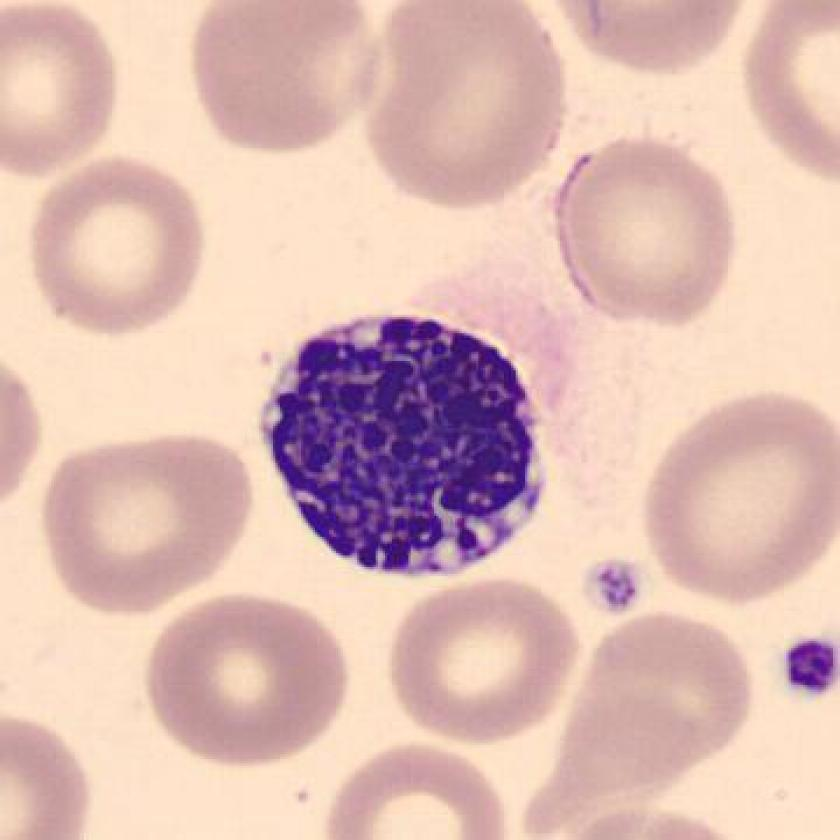basophil: (258, 297, 561, 598)
